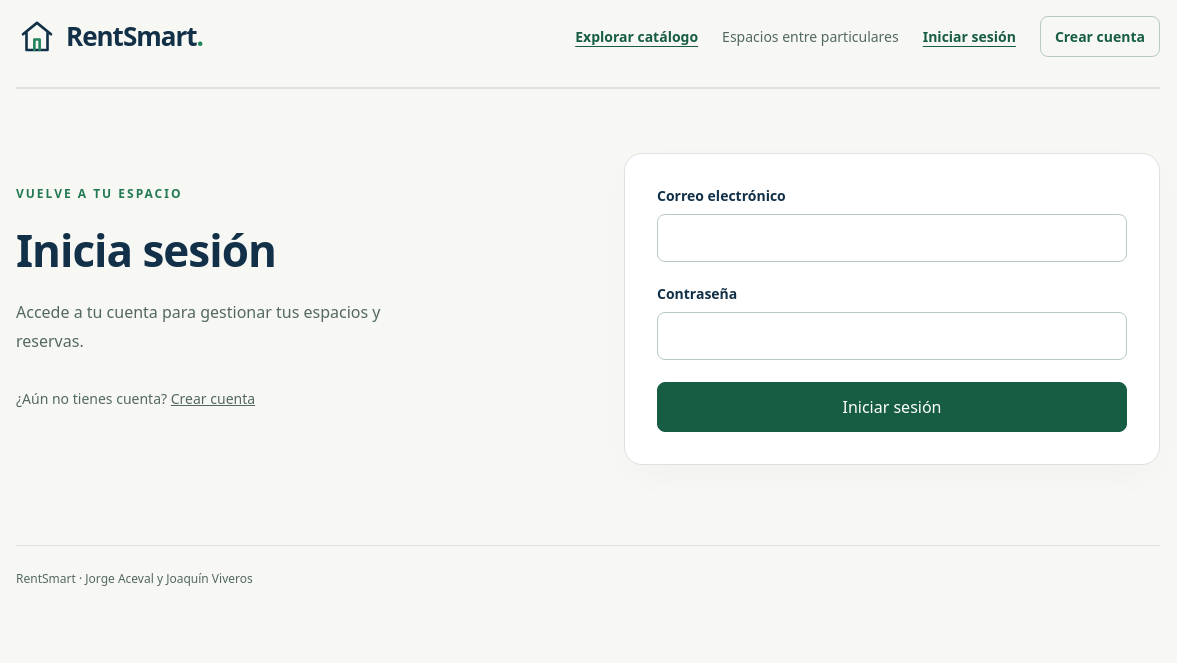
HU02 CP-02: valida campos vacíos y responde igual ante correo o contraseña incorrectos
Click the button "Iniciar sesión".
click(892, 407)  # box [657,382,1127,432]
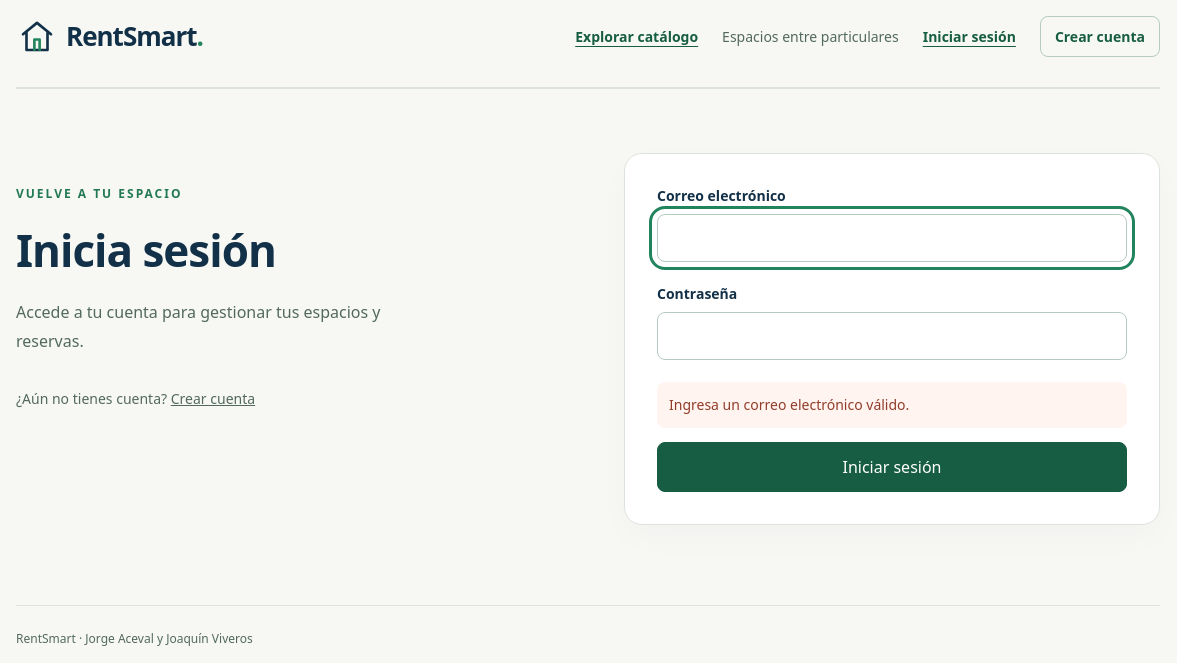
Expected: the message reads "Ingresa un correo electrónico válido.", [669,395,909,414]
Type "no-existe@example.com" into the field labelled "Correo electrónico".
click(892, 238); type("no-existe@example.com")  # box [657,214,1127,262]
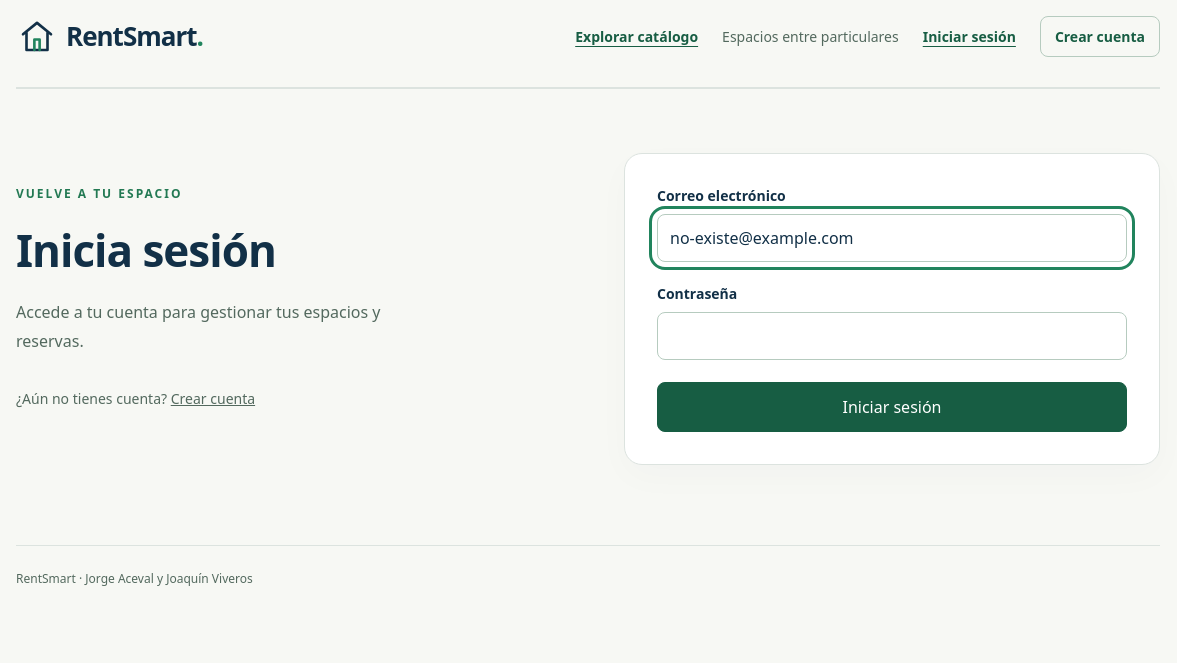
Type "  Clave exacta 2026!  " into the password field labelled "Contraseña".
click(892, 336); type("  Clave exacta 2026!  ")  # box [657,312,1127,360]
Click the button "Iniciar sesión".
click(892, 407)  # box [657,382,1127,432]
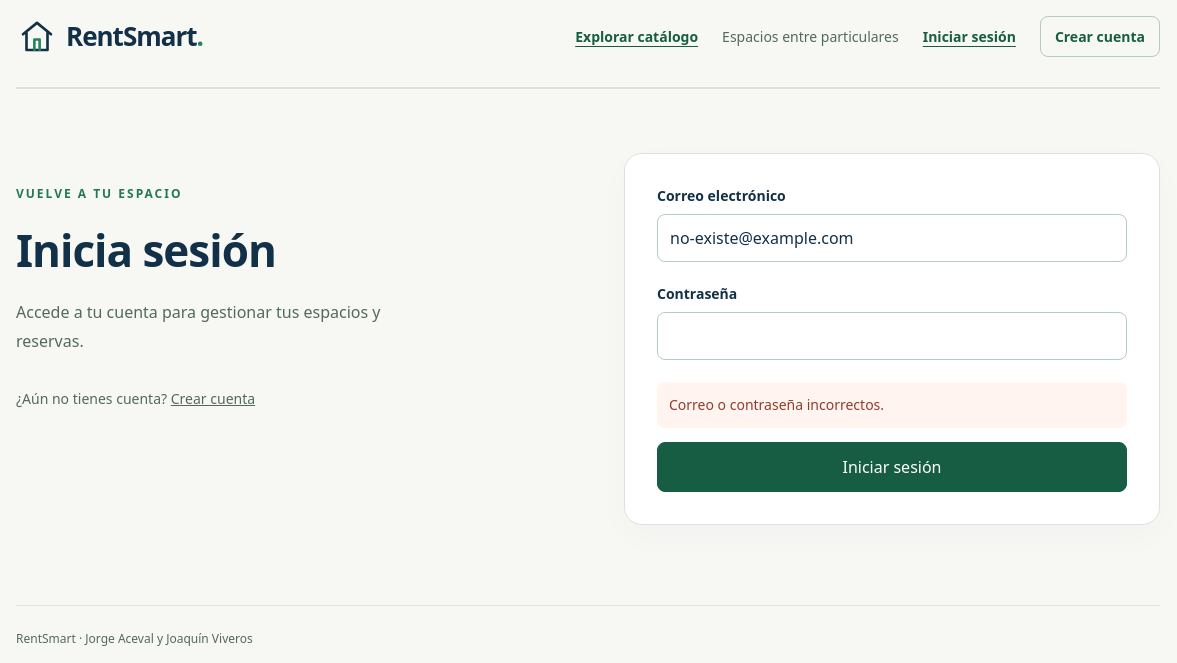
Expected: the message reads "Correo o contraseña incorrectos.", [669,395,884,414]
Expected: the password field labelled "Contraseña" is empty, [657,312,1127,360]
Replace the text in the field labelled "Correo electrónico" with "jorge@example.com" at (892, 238), box [657,214,1127,262]
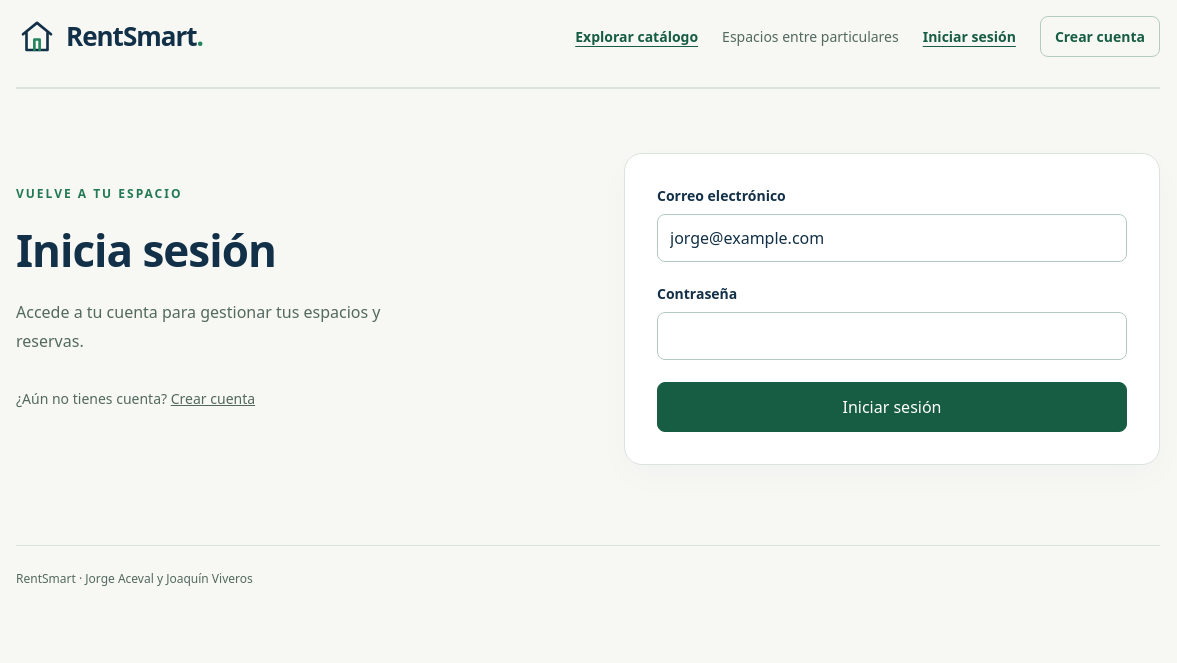
Type "  Clave exacta 2026!  " into the password field labelled "Contraseña".
click(892, 336); type("  Clave exacta 2026!  ")  # box [657,312,1127,360]
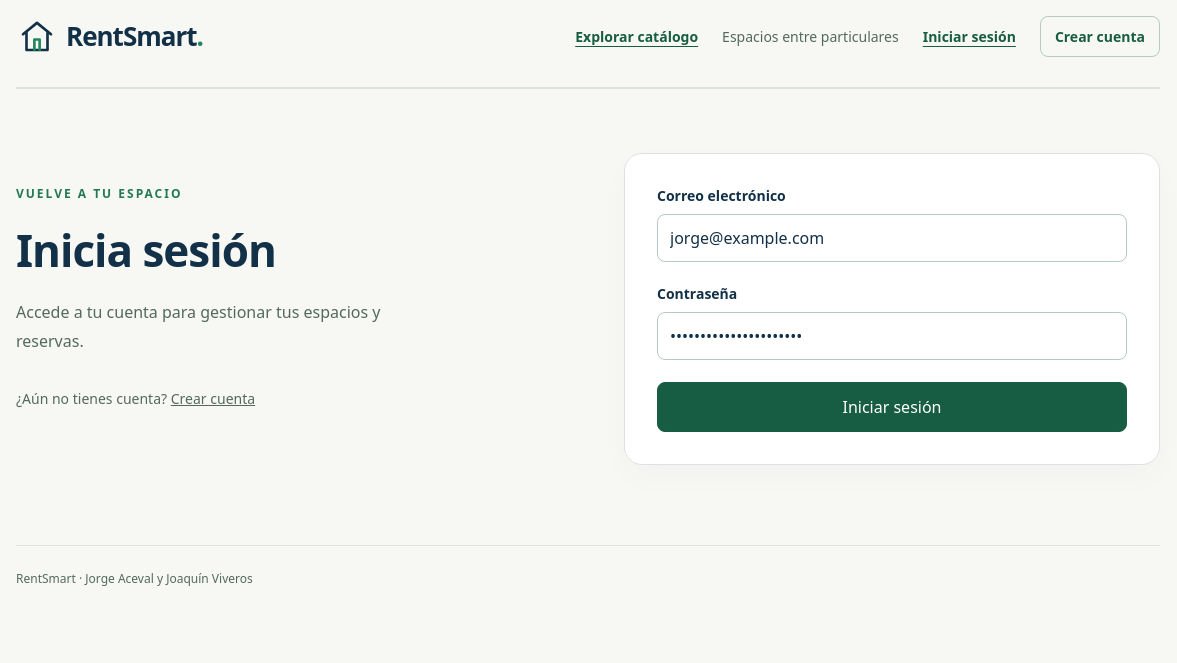
Click the button "Iniciar sesión".
click(892, 407)  # box [657,382,1127,432]
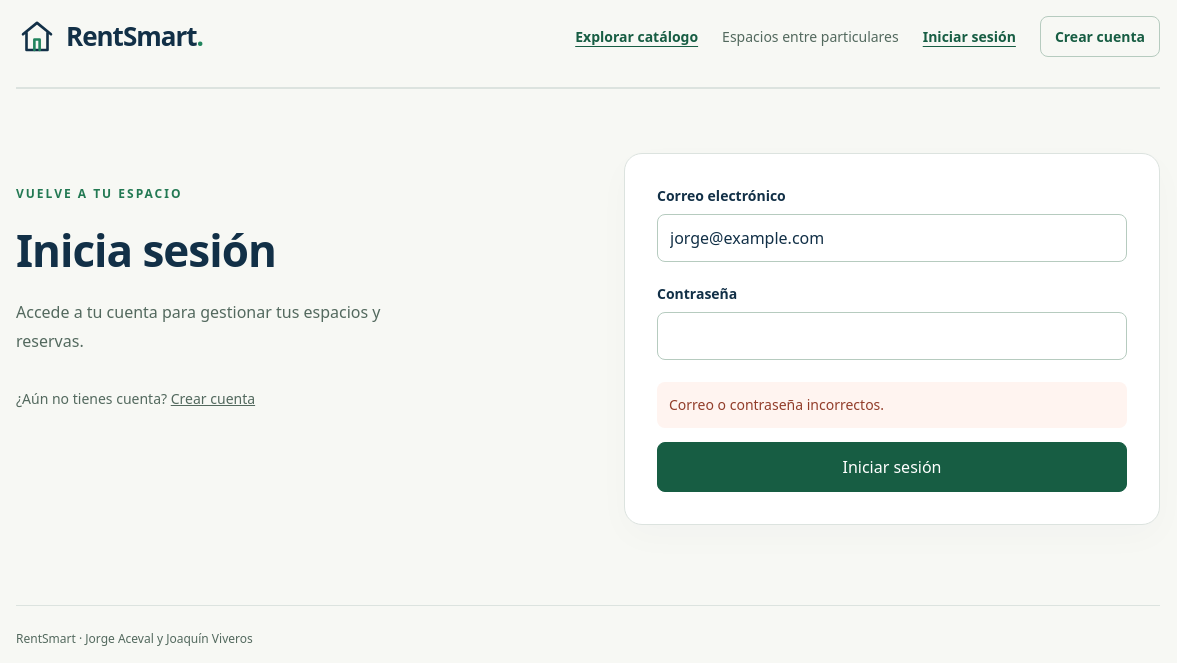
Expected: the message reads "Correo o contraseña incorrectos.", [669,395,884,414]
Expected: the password field labelled "Contraseña" is empty, [657,312,1127,360]
